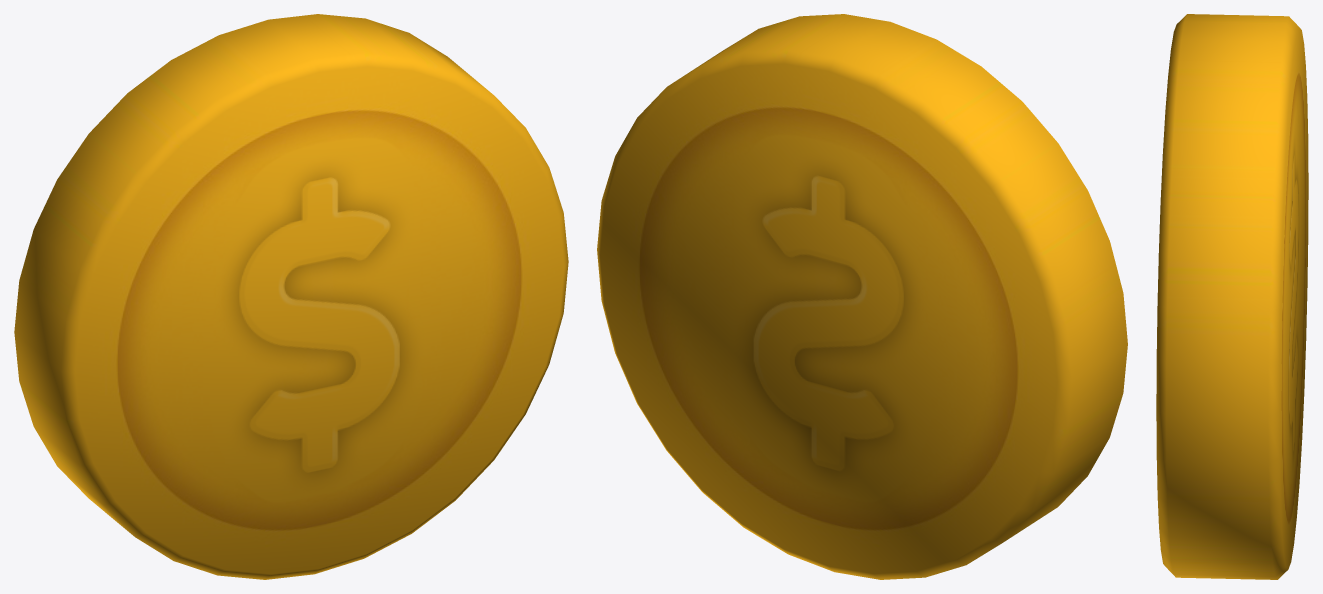
Rendered from Coin2.fbx.
3 views of the same model, side by side, from view 1: azimuth 30°, elevation 25°; view 2: azimuth 150°, elevation 25°; view 3: azimuth 270°, elevation 25° (orthographic).
Parts seen in each view (by area): view 1: Coin; view 2: Coin; view 3: Coin.
Boxes of the visible parts, left/top/right/bottom form: Coin: left=14, top=14, right=568, bottom=579; Coin: left=597, top=14, right=1127, bottom=579; Coin: left=1156, top=14, right=1308, bottom=579.
Bounding box in the file's own units: 118 × 117 × 31.48.
